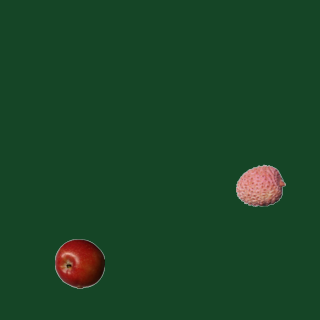Apple Braeburn: (54, 238, 104, 288)
Lychee: (235, 160, 285, 210)
